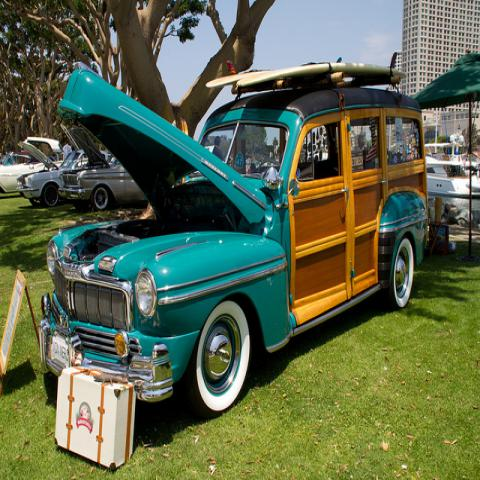car: (40, 68, 430, 416), (60, 131, 149, 210), (18, 136, 65, 208), (0, 152, 44, 195)
